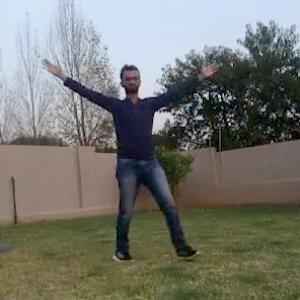takeoff: (23, 73, 189, 263)
